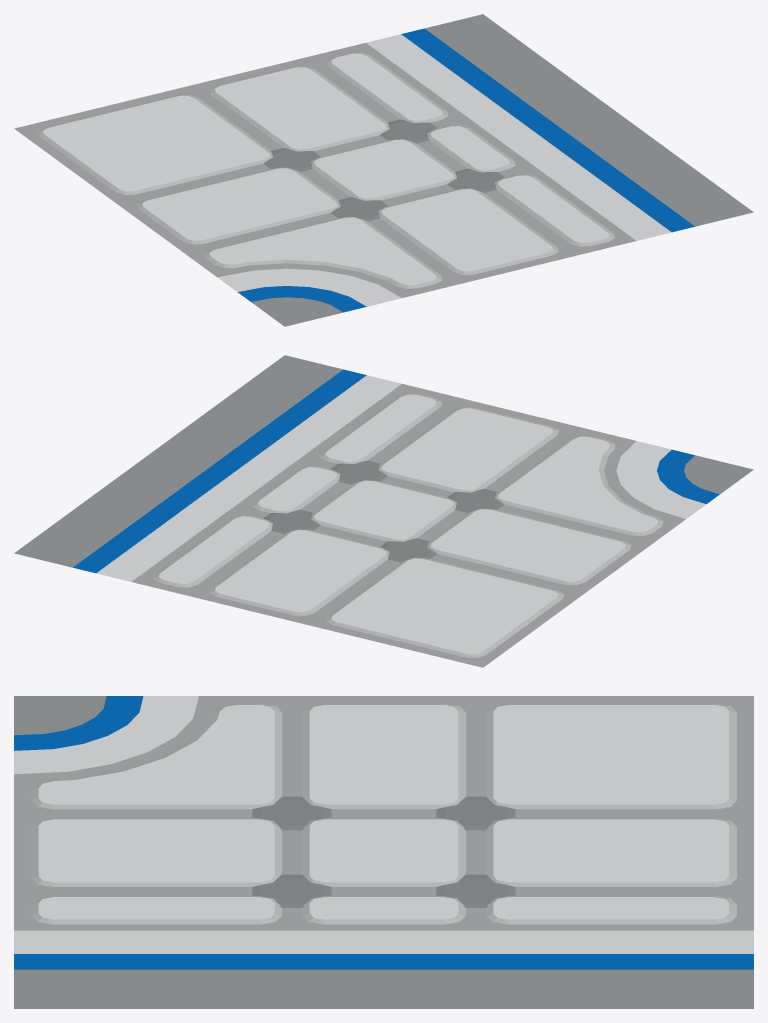
Rendered from Floor_type_A_036.fbx.
The picture shows the model from 3 angles, top to bottom: view 1: azimuth 30°, elevation 25°; view 2: azimuth 150°, elevation 25°; view 3: azimuth 270°, elevation 25°; orthographic projection. The views are drawn at different scales.
Parts seen in each view (by area): view 1: Floor_type_A_036; view 2: Floor_type_A_036; view 3: Floor_type_A_036.
Part boxes in pixels (<box>): Floor_type_A_036: <box>14,14,753,326</box>; Floor_type_A_036: <box>14,355,753,667</box>; Floor_type_A_036: <box>14,696,753,1008</box>.
Bounding box in the file's own units: 400 × 400 × 1.34.
